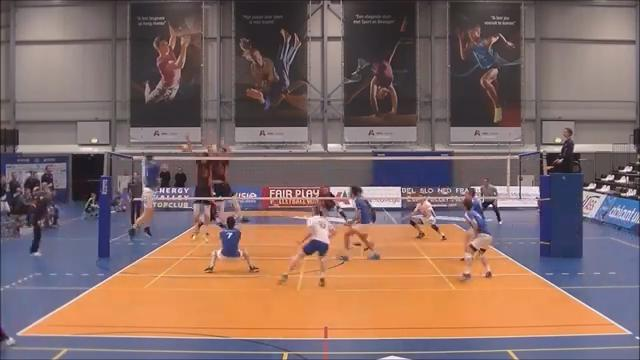attacco: (127, 147, 165, 246)
muro: (200, 133, 245, 230), (181, 129, 211, 245)
